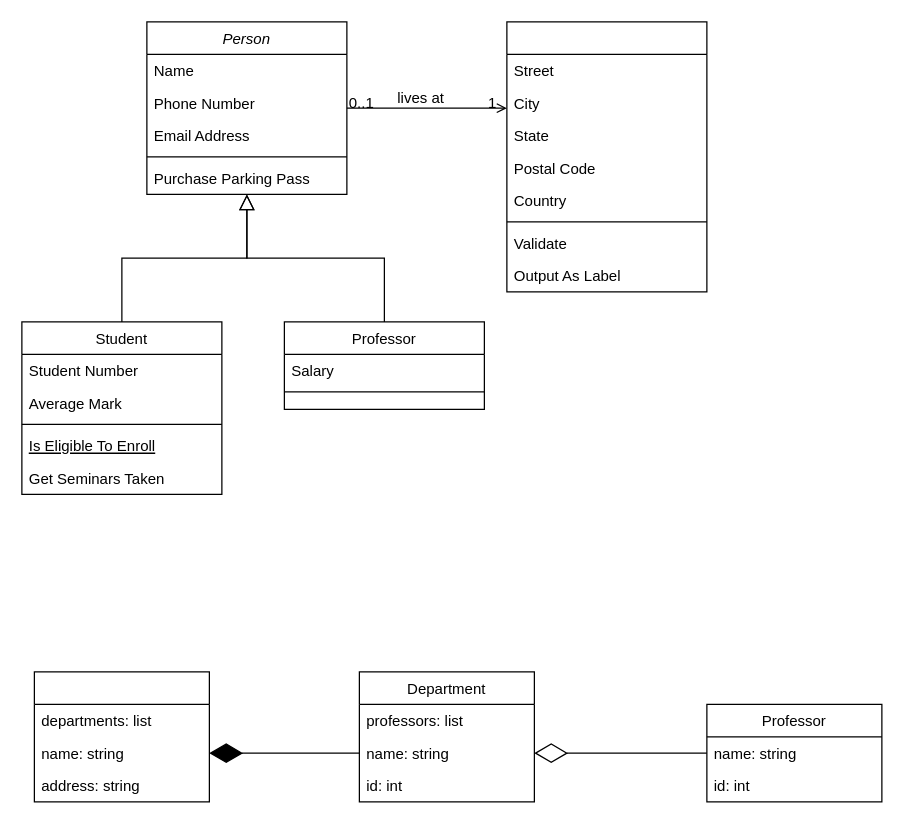
This 904x828 diagram has some shape labels left out. The shapes that lost their labels are listed below. From the top down, each one's box as (x1, y1, x2, y2) in pixels, then its label:
(506, 21, 707, 292): Address
(33, 671, 209, 802): University
